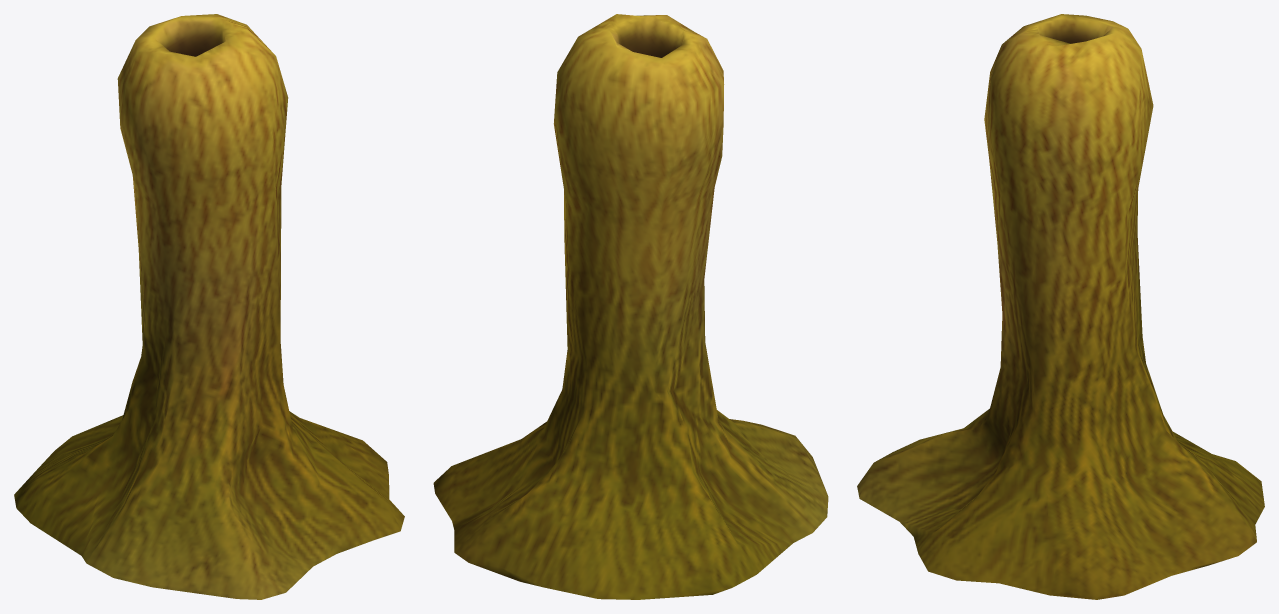
Rendered from Coral02-2.fbx.
3 views of the same model, side by side, from view 1: azimuth 30°, elevation 25°; view 2: azimuth 150°, elevation 25°; view 3: azimuth 270°, elevation 25° (orthographic).
Visible parts, largest first — view 1: Coral3_1; view 2: Coral3_1; view 3: Coral3_1.
Part boxes in pixels (left/top/right/bottom): Coral3_1: left=14, top=14, right=404, bottom=599; Coral3_1: left=433, top=14, right=828, bottom=599; Coral3_1: left=857, top=14, right=1264, bottom=599.
Bounding box in the file's own units: 59.18 × 83.28 × 63.76.
